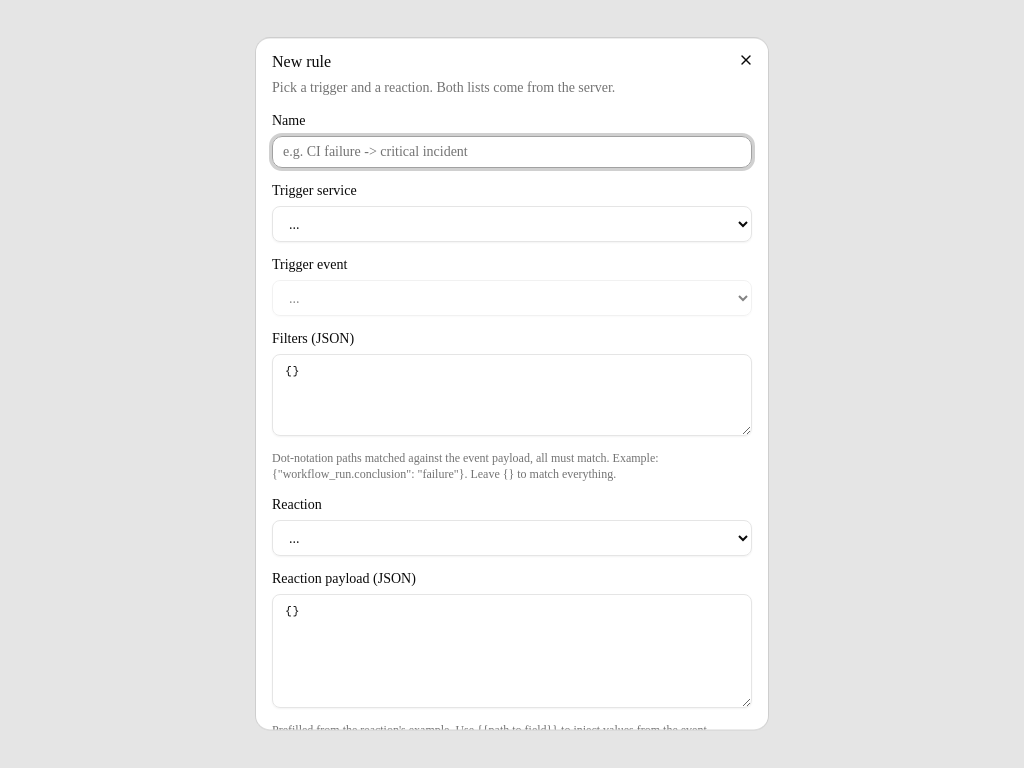
Test: RuleFormDialog › shows error for invalid JSON filters
Check: the dialog is shown, box top-left (256, 38), bottom-right (768, 730)
Type "My Rule" into the field labelled "Name" at (512, 152), box top-left (272, 136), bottom-right (752, 168)
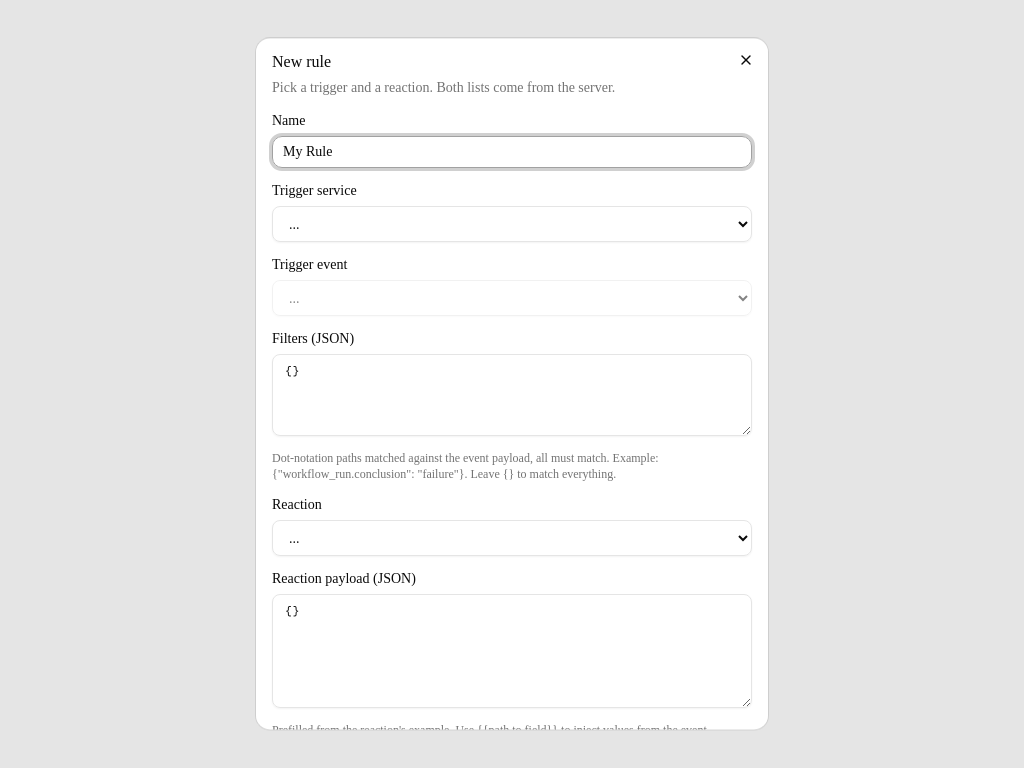
Select "github" in the dropdown labelled "Trigger service" at (512, 224), box top-left (272, 206), bottom-right (752, 242)
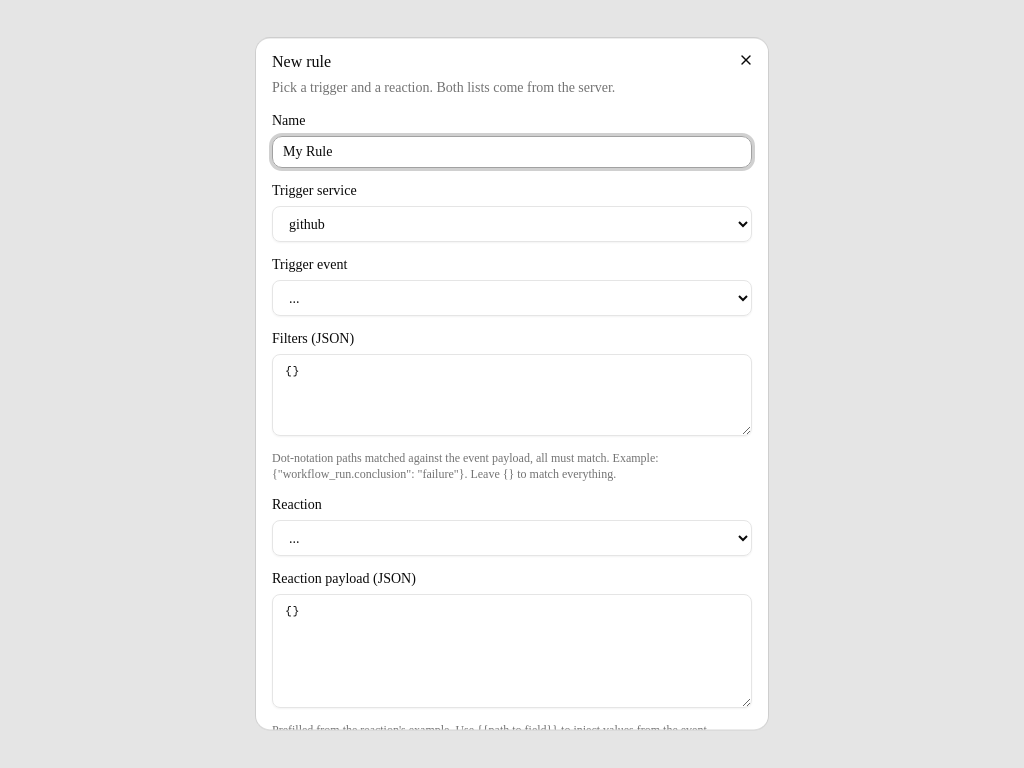
Select "workflow_run" in the dropdown labelled "Trigger event" at (512, 298), box top-left (272, 280), bottom-right (752, 316)
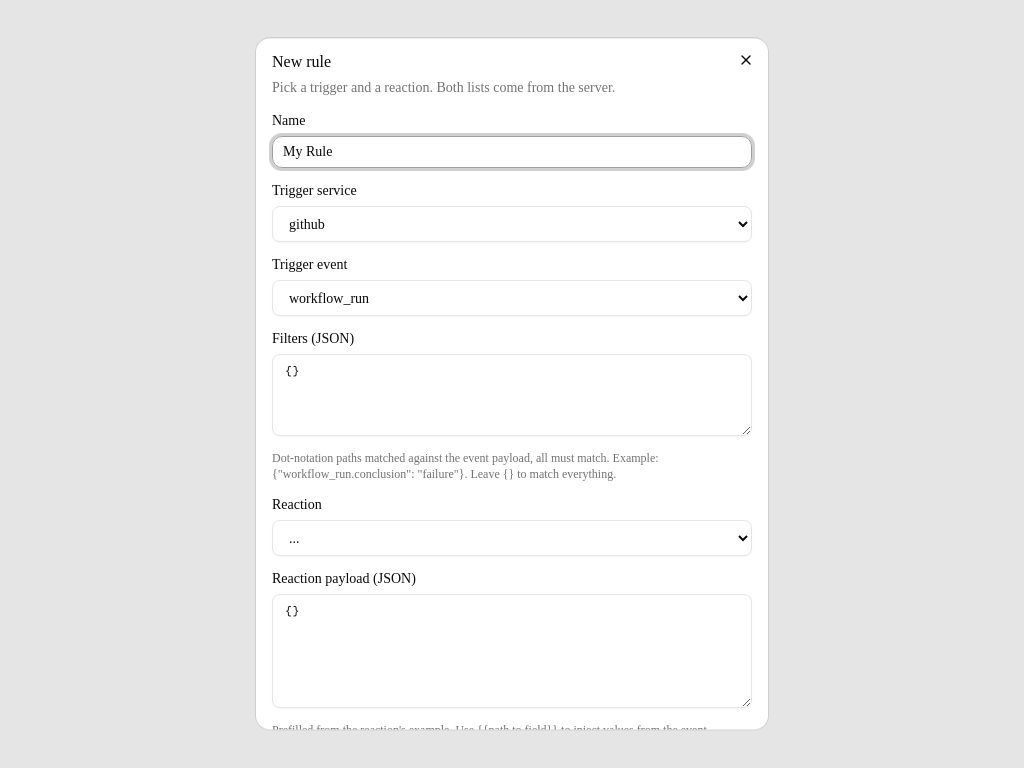
Select "vigil vigil_create_incident" in the dropdown labelled "Reaction" at (512, 538), box top-left (272, 520), bottom-right (752, 556)
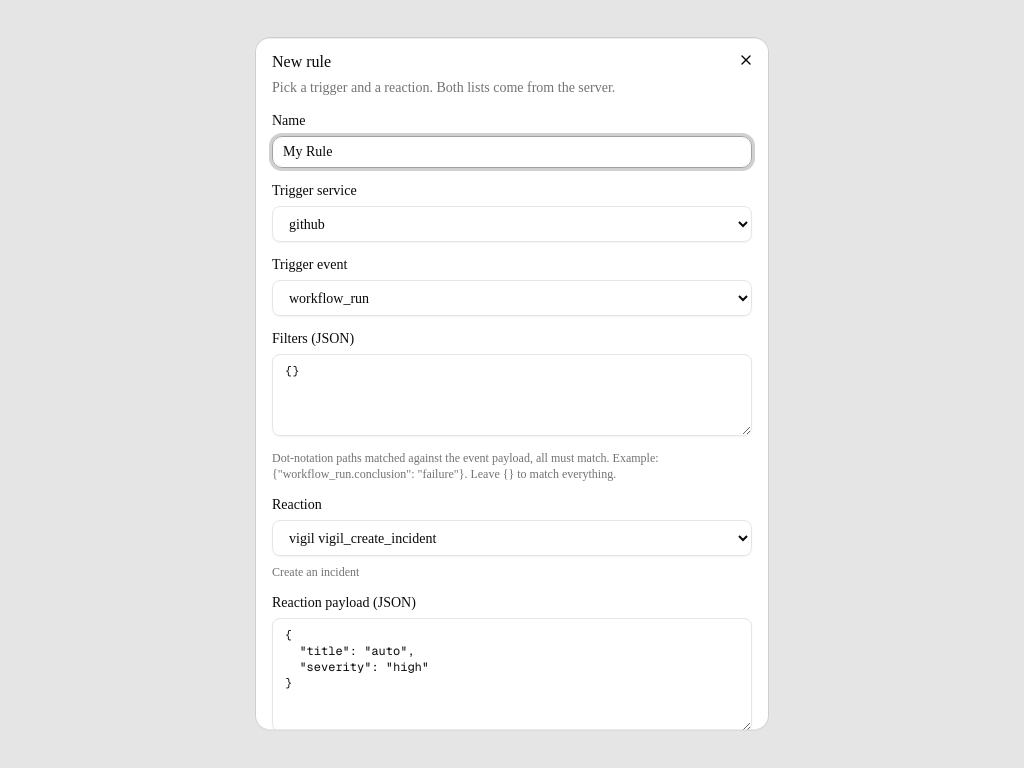
Replace the text in the text box labelled "Filters (JSON)" with "not json" at (512, 395), box top-left (272, 354), bottom-right (752, 436)
(page scrolled)
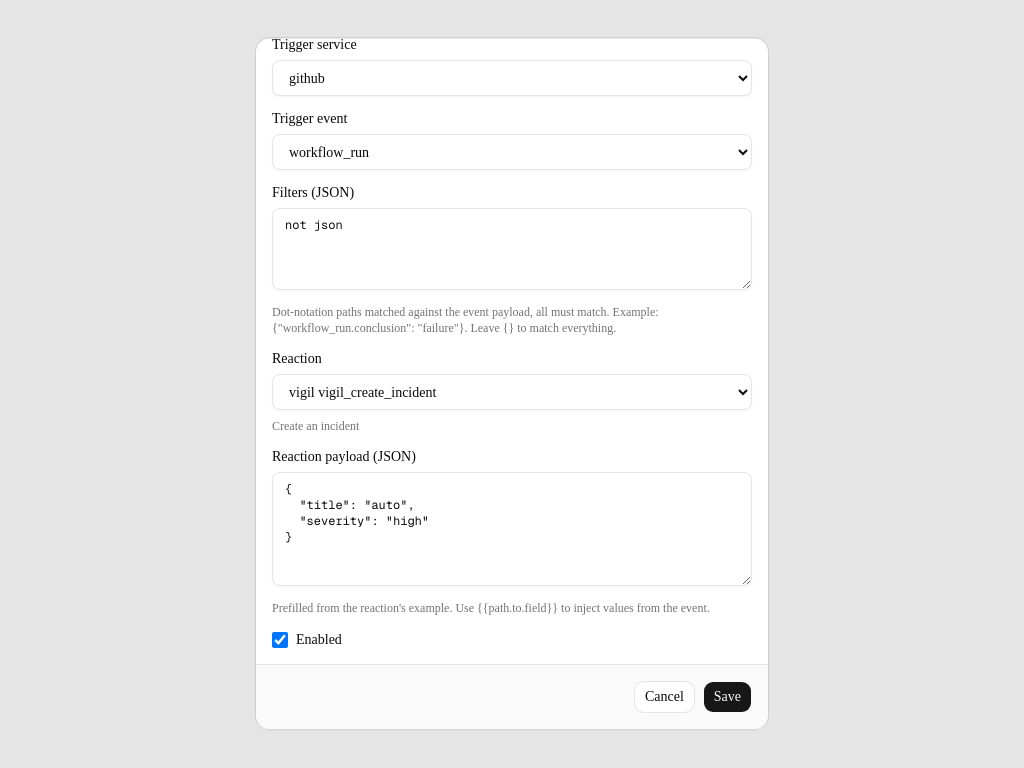
Click the button "Save" at (727, 697), box top-left (703, 681), bottom-right (752, 713)
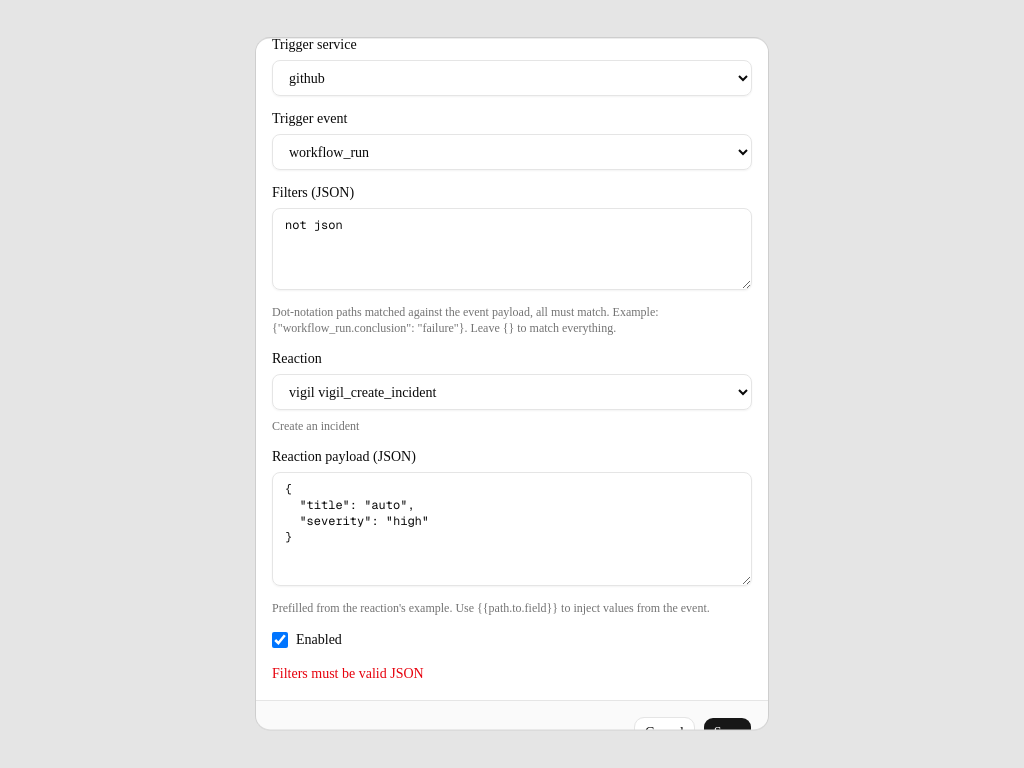
Check: the text "Filters must be valid JSON" is shown, box top-left (272, 666), bottom-right (424, 681)
